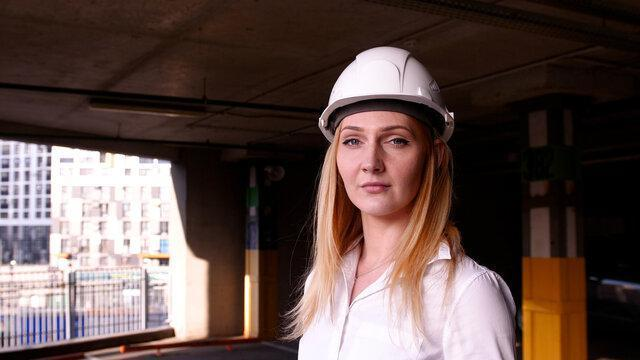helmet: (318, 46, 454, 141)
